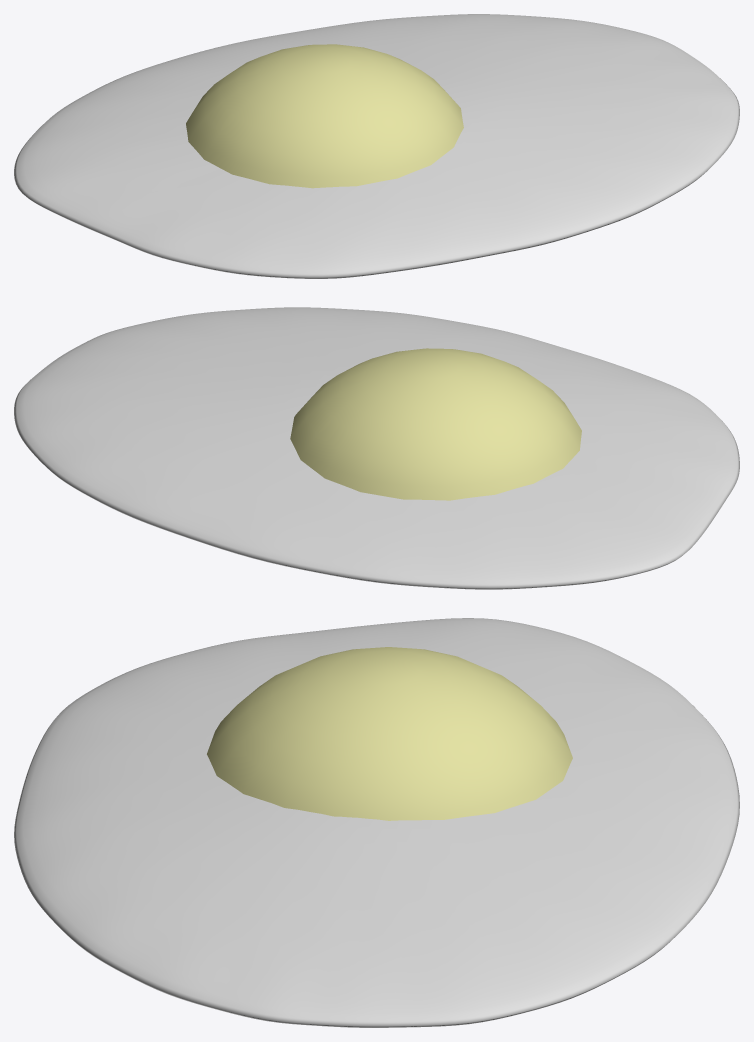
File: MEDAMAYAKI!!!!!!.fbx
3 renders of one model, top to bottom at view 1: azimuth 30°, elevation 25°; view 2: azimuth 150°, elevation 25°; view 3: azimuth 270°, elevation 25°, orthographic. The views are drawn at different scales.
Visible parts, largest first — view 1: pCylinder1, pSphere1; view 2: pCylinder1, pSphere1; view 3: pCylinder1, pSphere1.
Part boxes in pixels (x1,y1,x2,y2): pCylinder1: (14, 14, 739, 278); pSphere1: (186, 44, 463, 188); pCylinder1: (14, 307, 739, 589); pSphere1: (290, 348, 581, 500); pCylinder1: (14, 618, 739, 1027); pSphere1: (207, 647, 572, 820).
Bounding box in the file's own units: 10.91 × 1.7 × 8.24.
